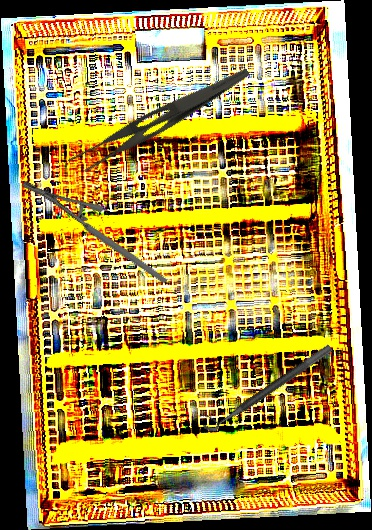Dressing Forceps: (66, 48, 251, 185)
Fixation Ring: (196, 333, 334, 436)
Needle Holder: (19, 147, 169, 318)
